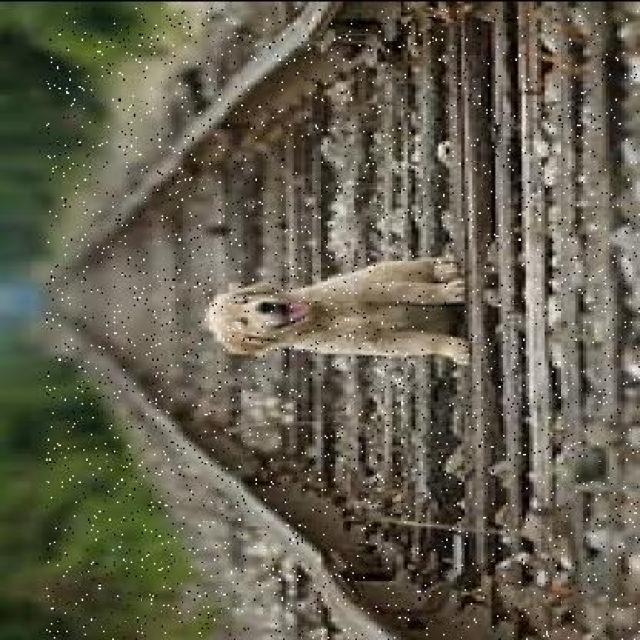danger: (205, 250, 472, 372)
rail: (46, 6, 640, 640)
